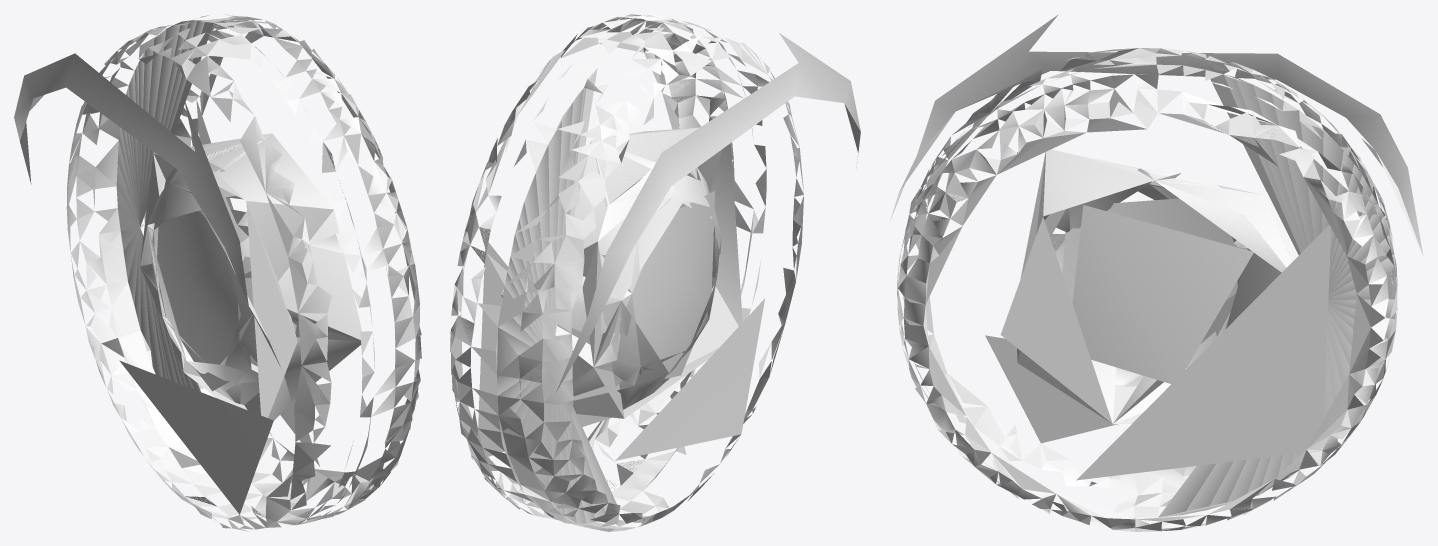
3 views of the same model, side by side, from view 1: azimuth 30°, elevation 25°; view 2: azimuth 150°, elevation 25°; view 3: azimuth 270°, elevation 25° (orthographic). The views are drawn at different scales.
Bounding box in the file's own units: 0.2479 × 0.5987 × 0.6397.
Materials: 1 (1 with a texture image).
